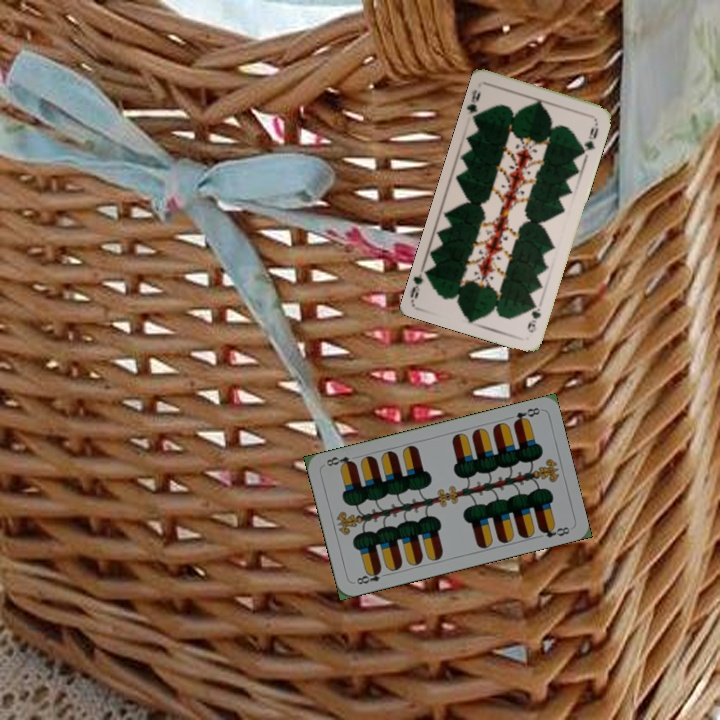E8: (352, 565, 391, 587), (509, 403, 543, 427)
G9: (464, 86, 484, 122), (523, 299, 543, 335)
